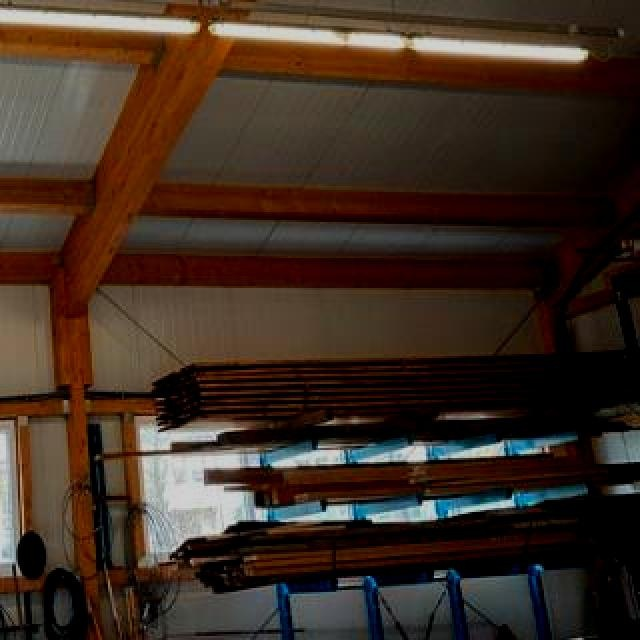fluorescent tube: (205, 3, 413, 65), (409, 16, 602, 80), (0, 0, 208, 52)
